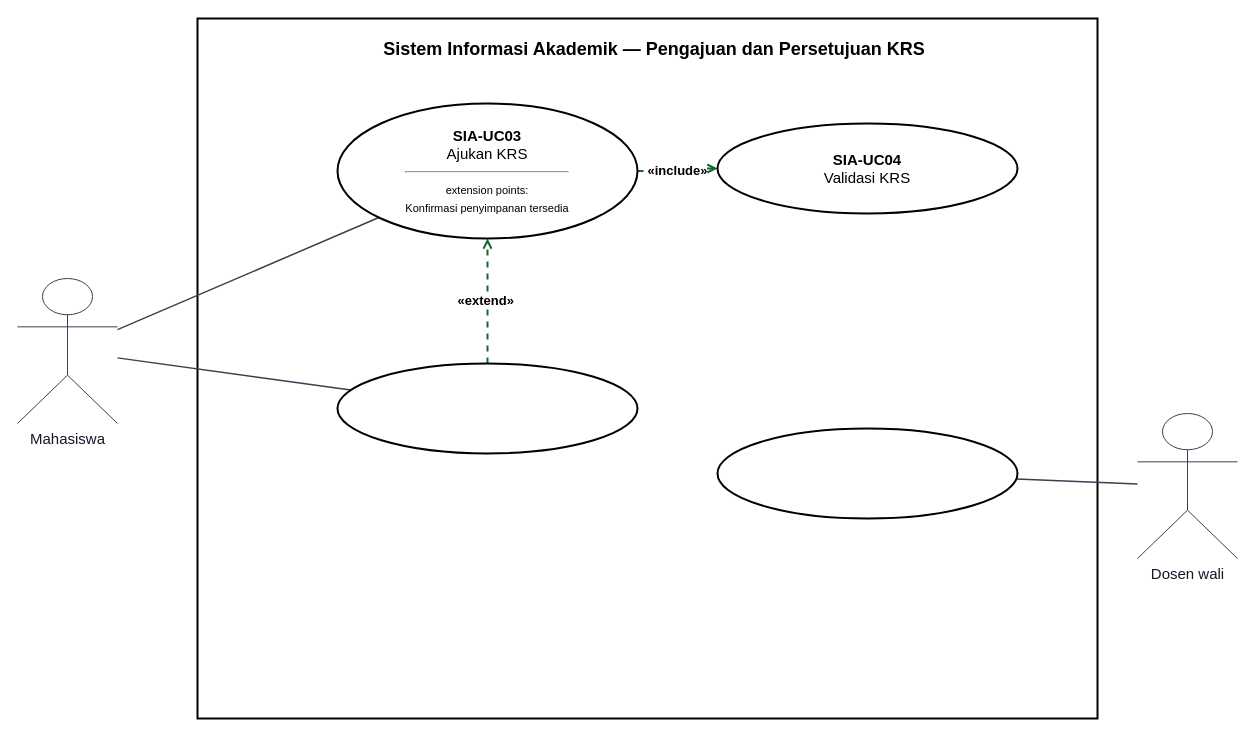
The diagram is 1255 pixels wide and 736 high, and some of its shapes have lost their labels. The centre of each missing label's shape, as x and y in pixels:
"SIA-UC05 Unduh bukti pengajuan KRS" goes at (487,408).
"SIA-UC06 Proses keputusan KRS" goes at (867,473).
